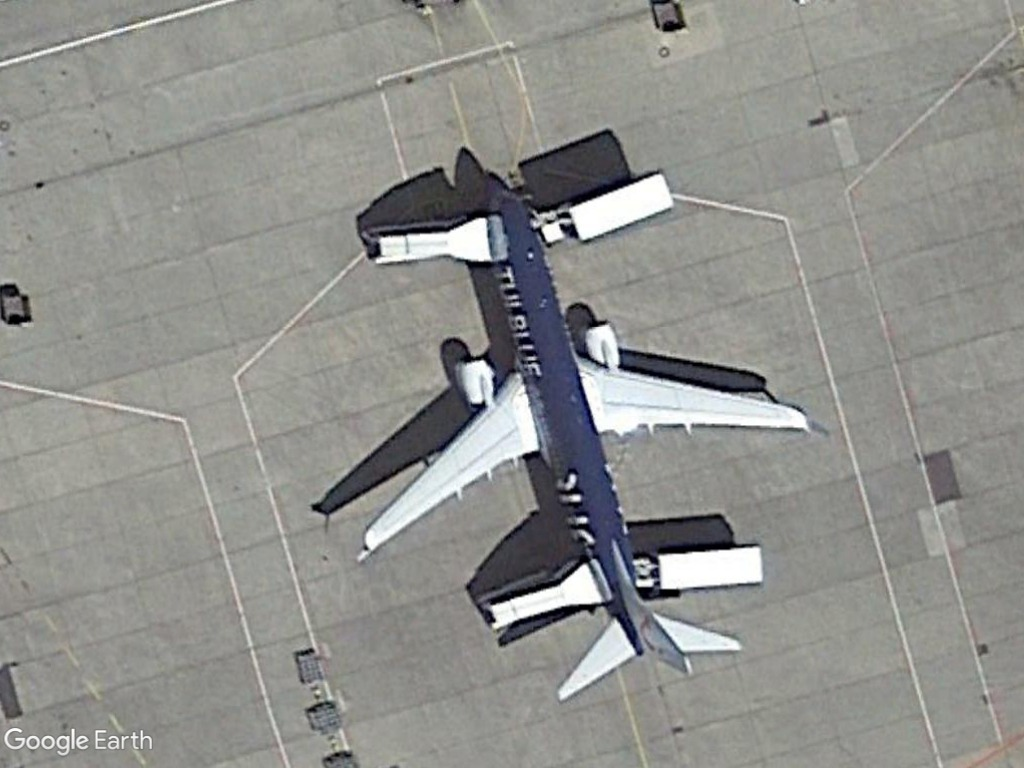airliner: (349, 167, 821, 706)
truck: (539, 167, 678, 252), (628, 542, 768, 597)
